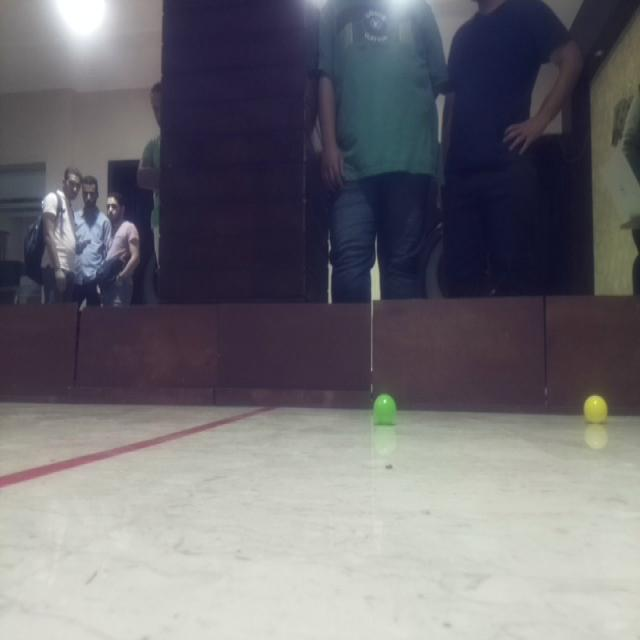ball: (577, 392, 613, 426), (370, 392, 402, 424)
